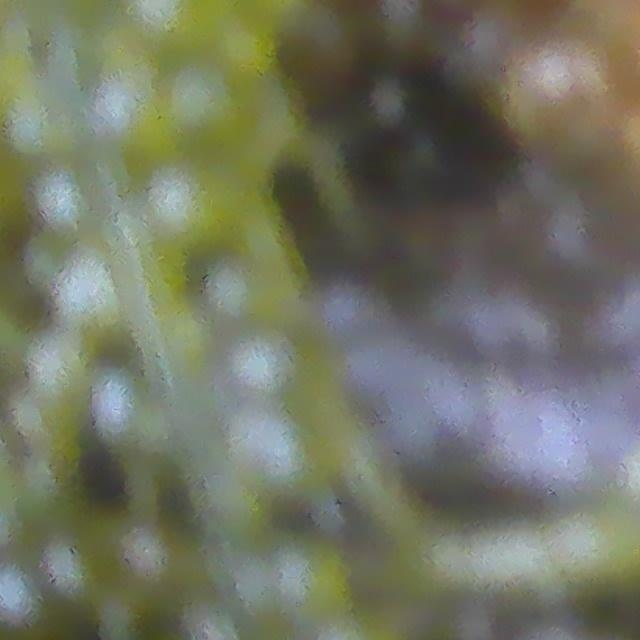SeaGrape: (156, 54, 252, 150), (227, 330, 296, 399), (92, 373, 146, 438)
